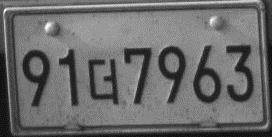1: (52, 48, 87, 108)
3: (224, 43, 254, 102)
6: (191, 43, 221, 103)
7: (122, 46, 154, 106)
9: (20, 49, 52, 109), (156, 44, 187, 105)
더: (87, 57, 121, 106)
